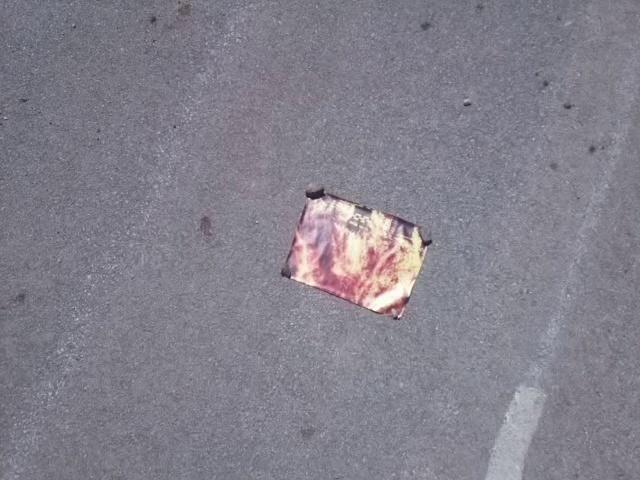fire-poster: (278, 183, 433, 322)
